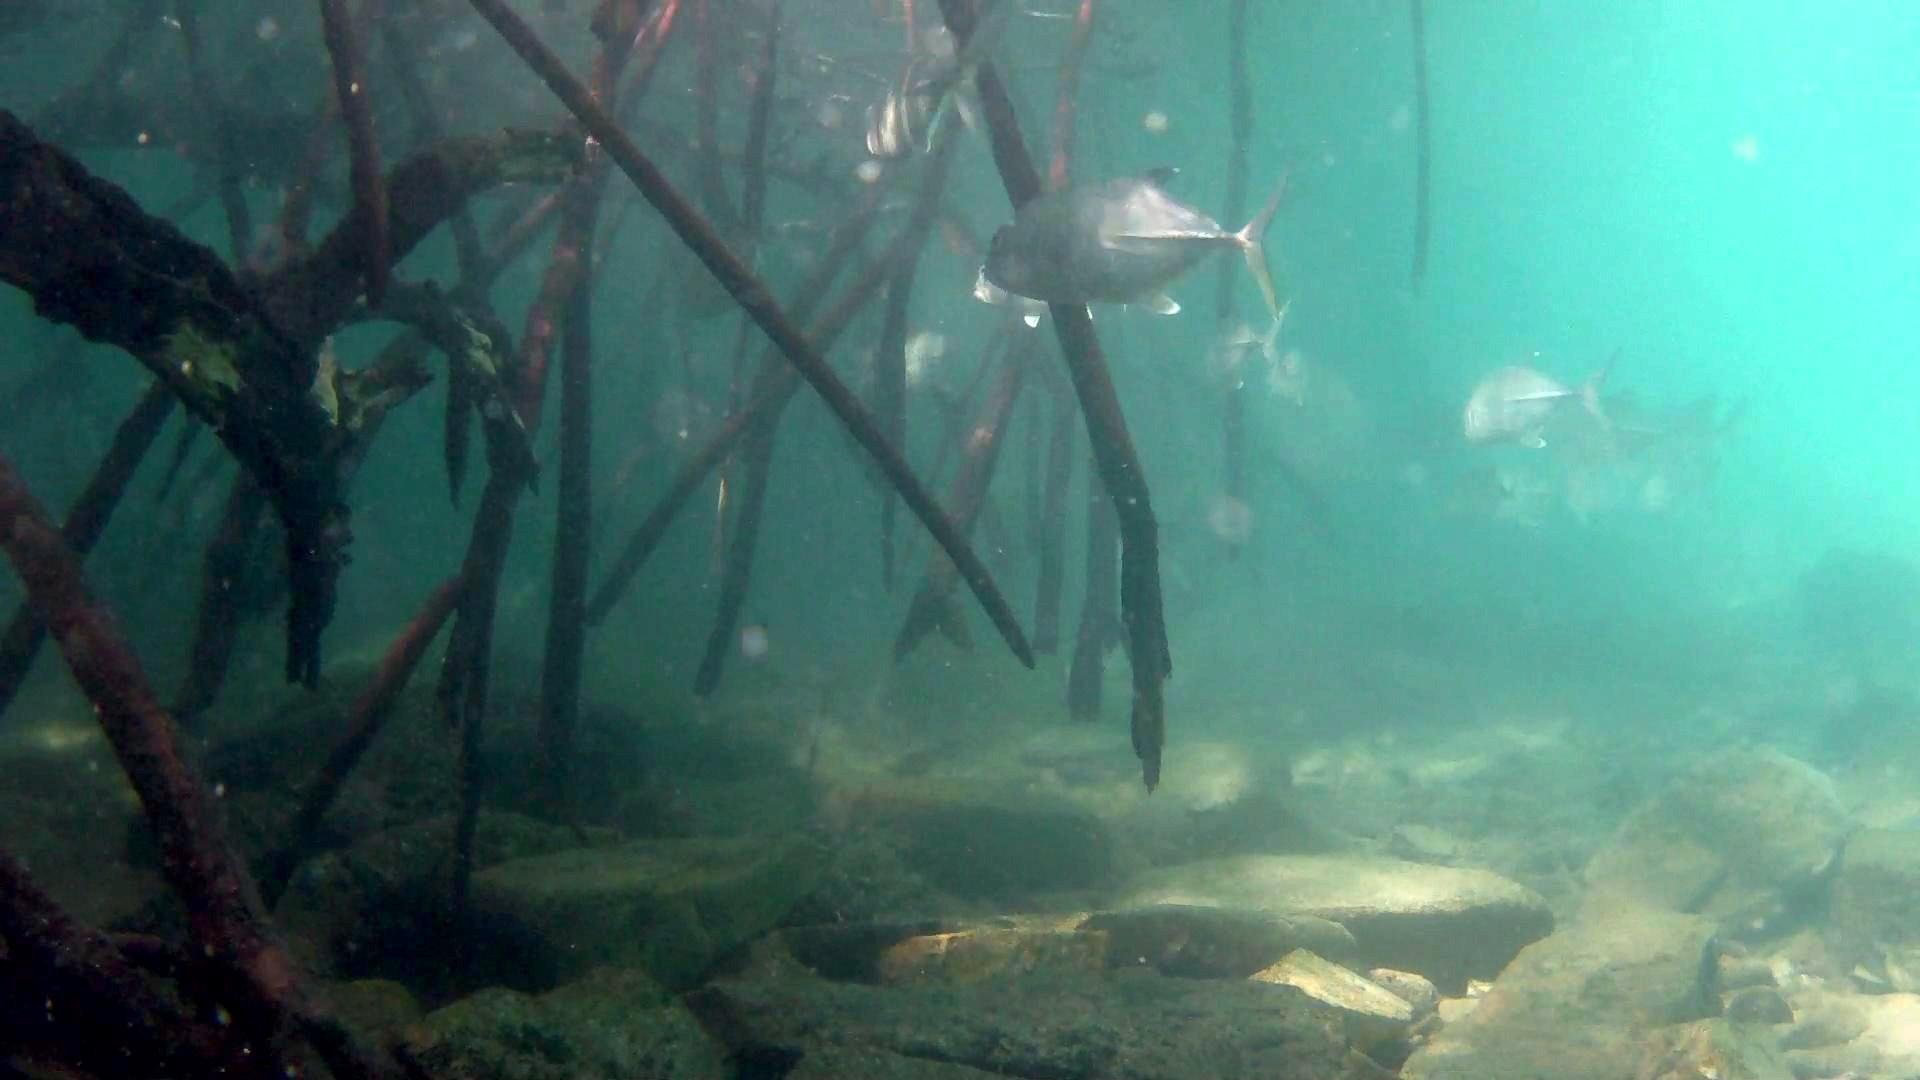caranx: (971, 148, 1307, 336)
